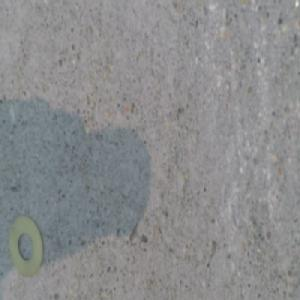Washer: (8, 214, 42, 275)
